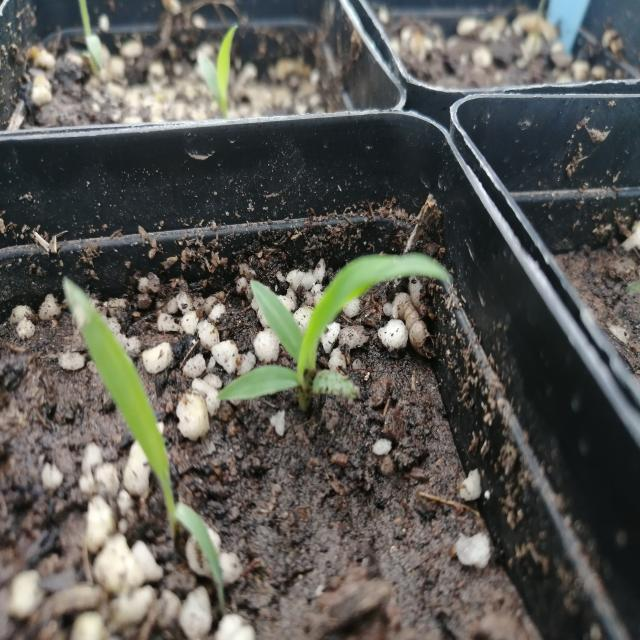crabgrass: (234, 218, 473, 421)
